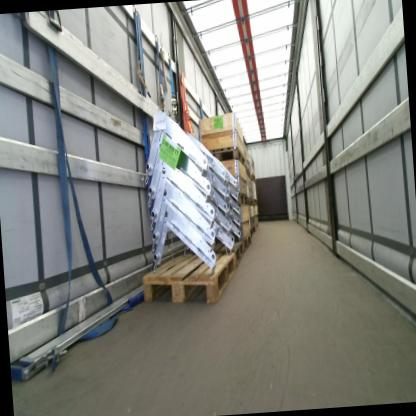pallet: (140, 245, 239, 310), (204, 239, 245, 271), (204, 143, 247, 170), (235, 191, 249, 209), (242, 164, 252, 183), (243, 232, 253, 250), (246, 197, 254, 209), (251, 171, 257, 185), (252, 223, 257, 239), (252, 199, 260, 207), (256, 221, 261, 231)
